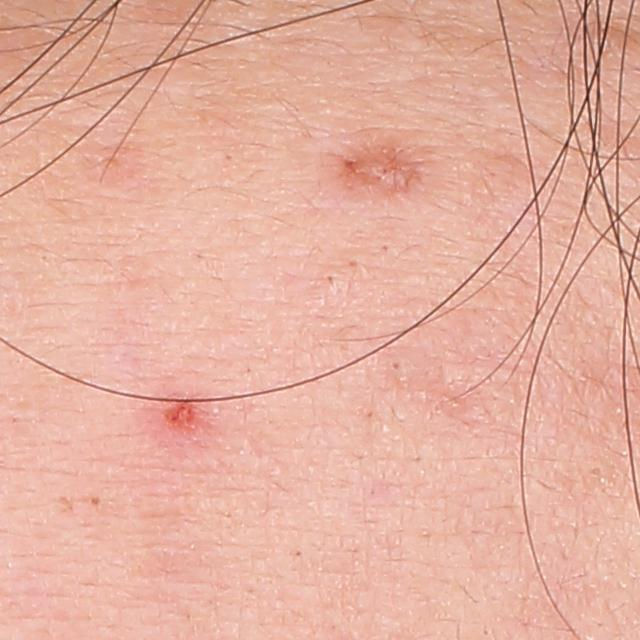comedo: (385, 354, 408, 377), (345, 255, 365, 274), (587, 462, 607, 480), (320, 271, 338, 288)
